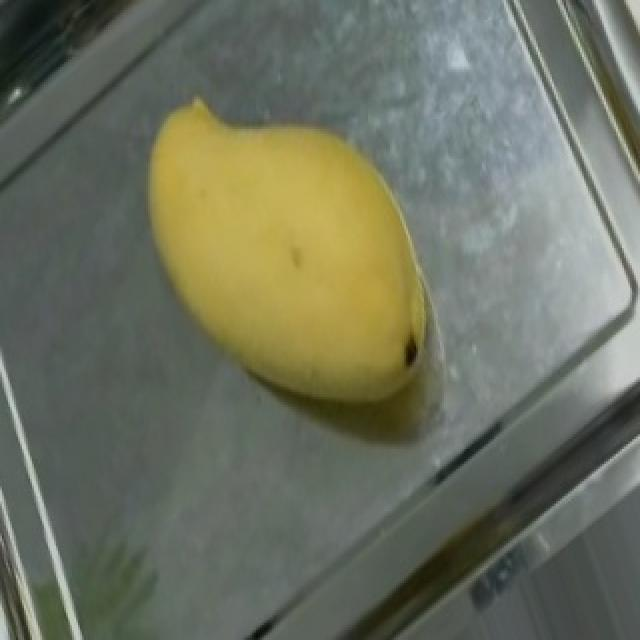fruit: (70, 47, 496, 449)
